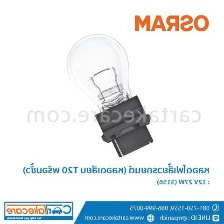light_bulb: (57, 27, 143, 123)
